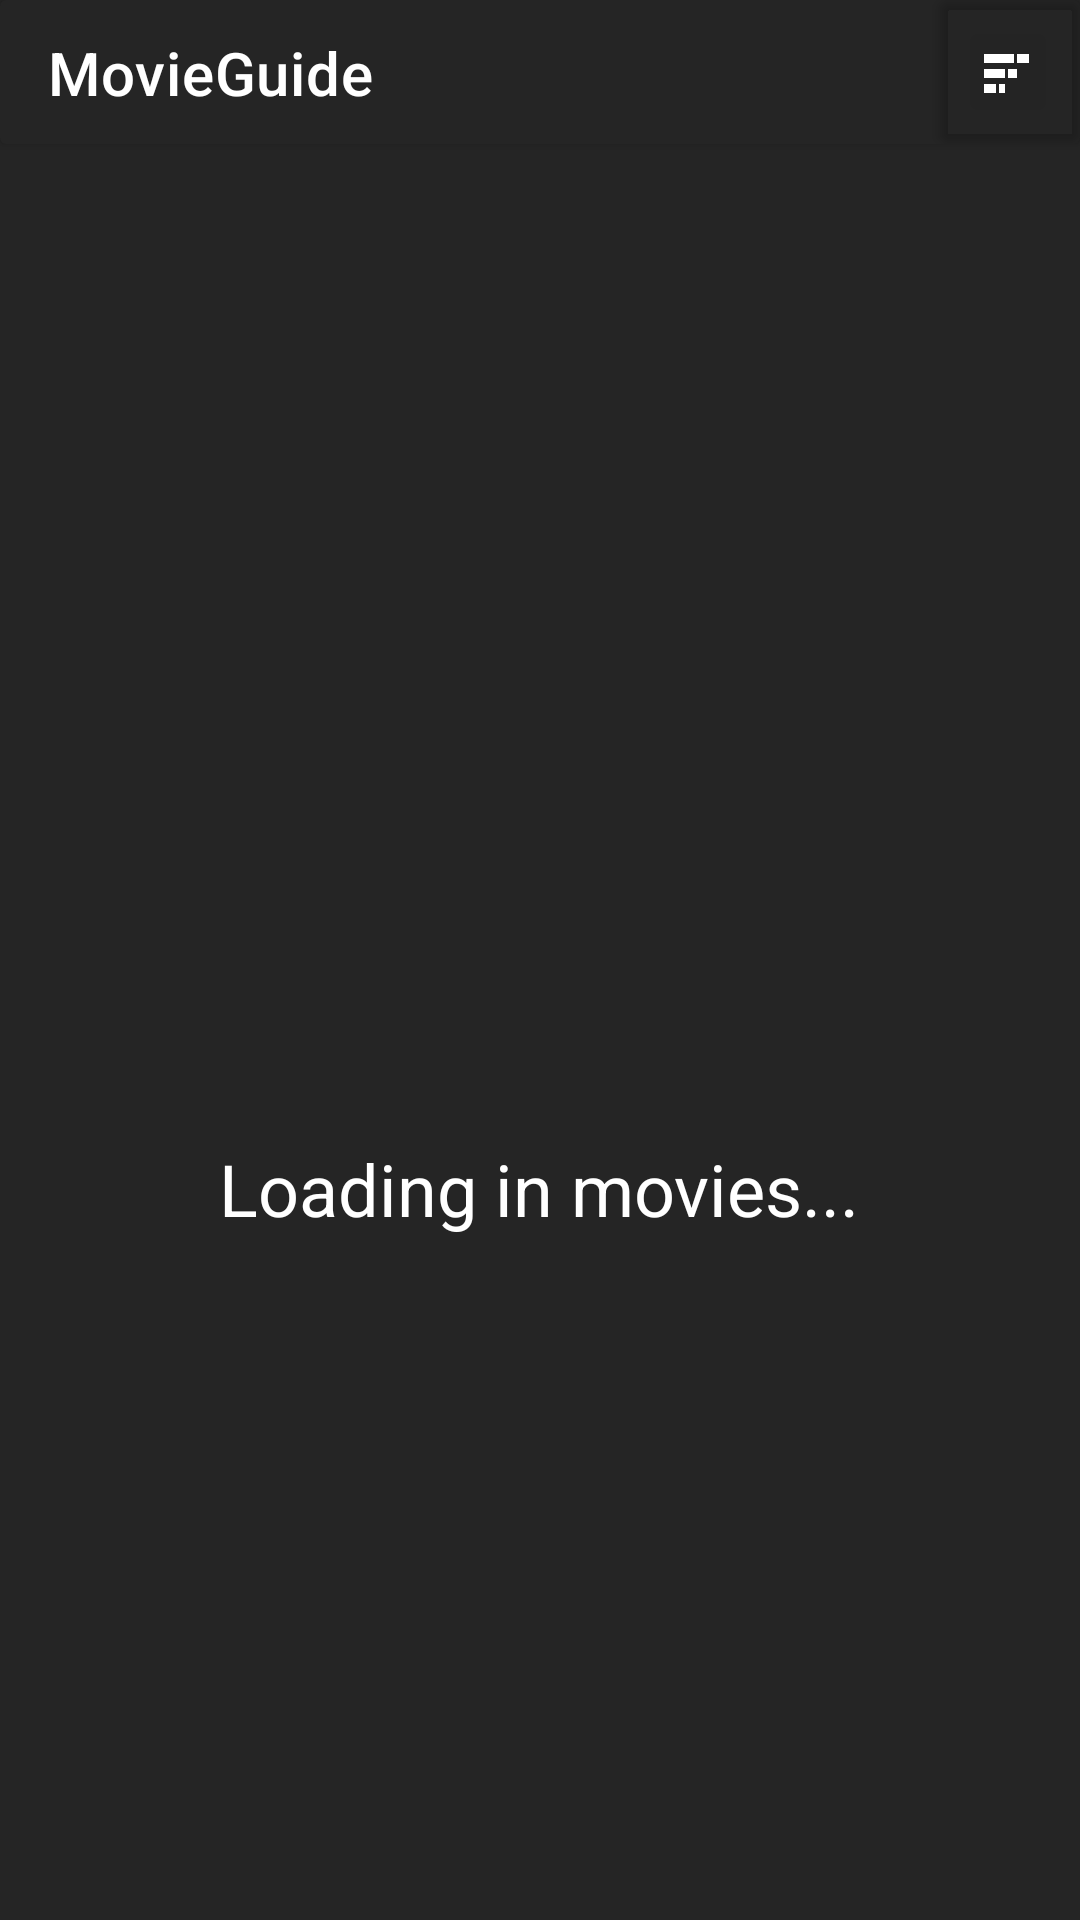

Icons on this 1080px×1920px Android screen, each with its box as (x1, y1, x2, y2):
stacked bar chart: (984, 54, 1029, 93)
